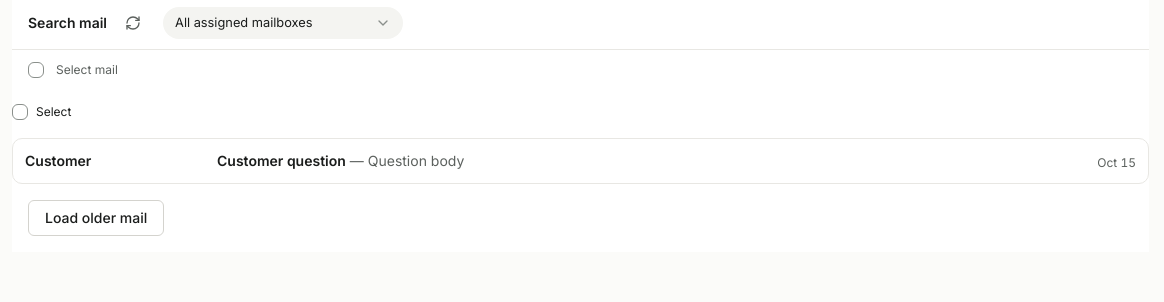
Test: mail reading workspace › loads older pages without dropping already loaded results
Click the button "Load older mail". click: (96, 218)
box: x1=28 y1=200 x2=164 y2=236
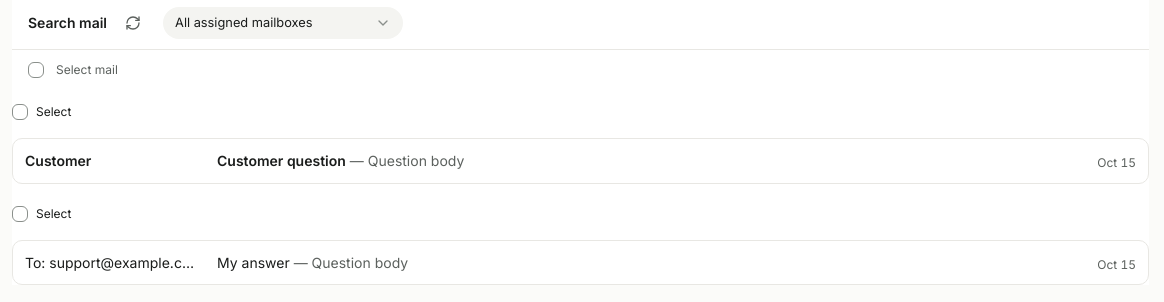
Expected: the text "Customer question" is shown, x1=217 y1=152 x2=346 y2=169
Result: the text "My answer" is shown at x1=217 y1=254 x2=290 y2=271
